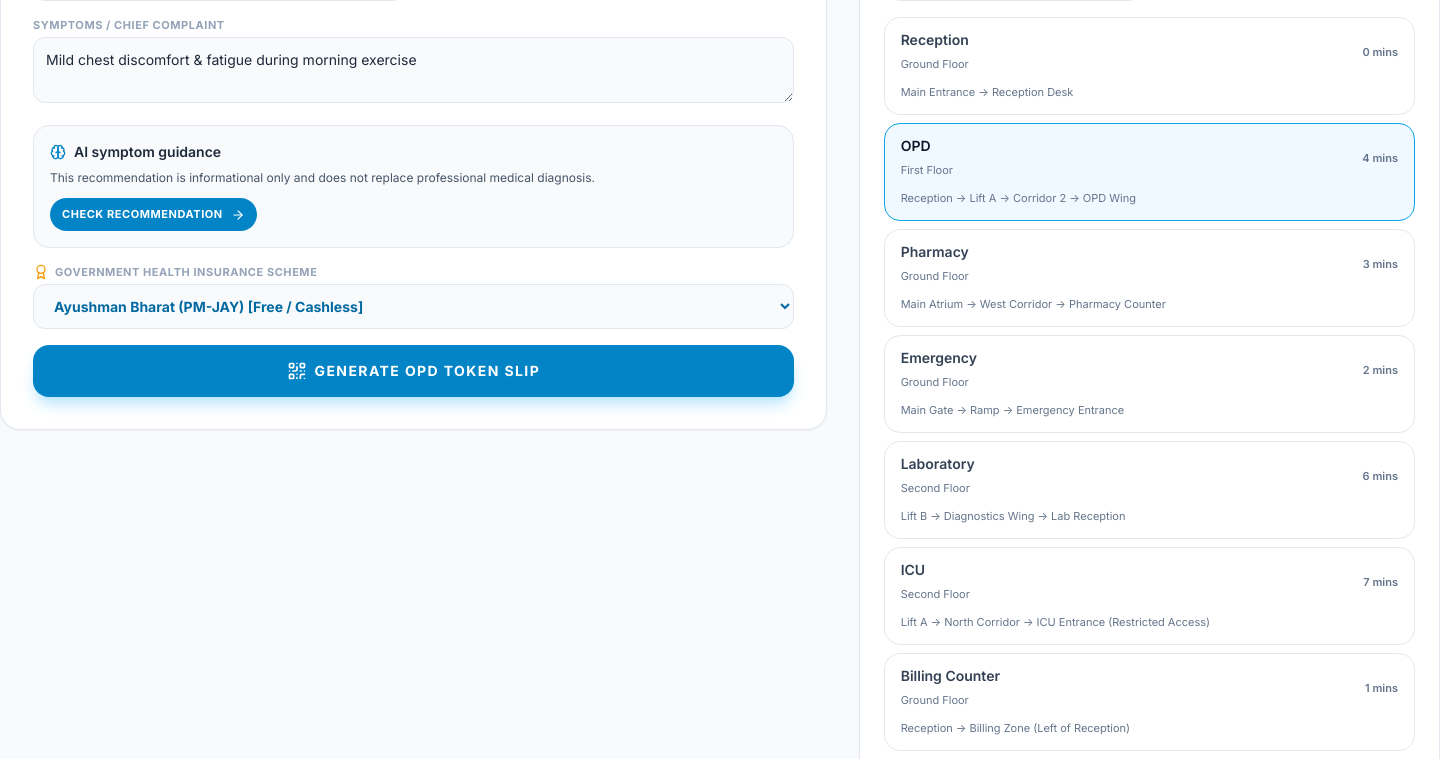
Test: OpdRegistration › loads doctors from the backend and creates an appointment when the slip is generated
The image size is (1440, 759).
(page scrolled)
Click the button "Generate OPD Token Slip".
click(413, 371)  # box [33,345,794,397]
(page scrolled)
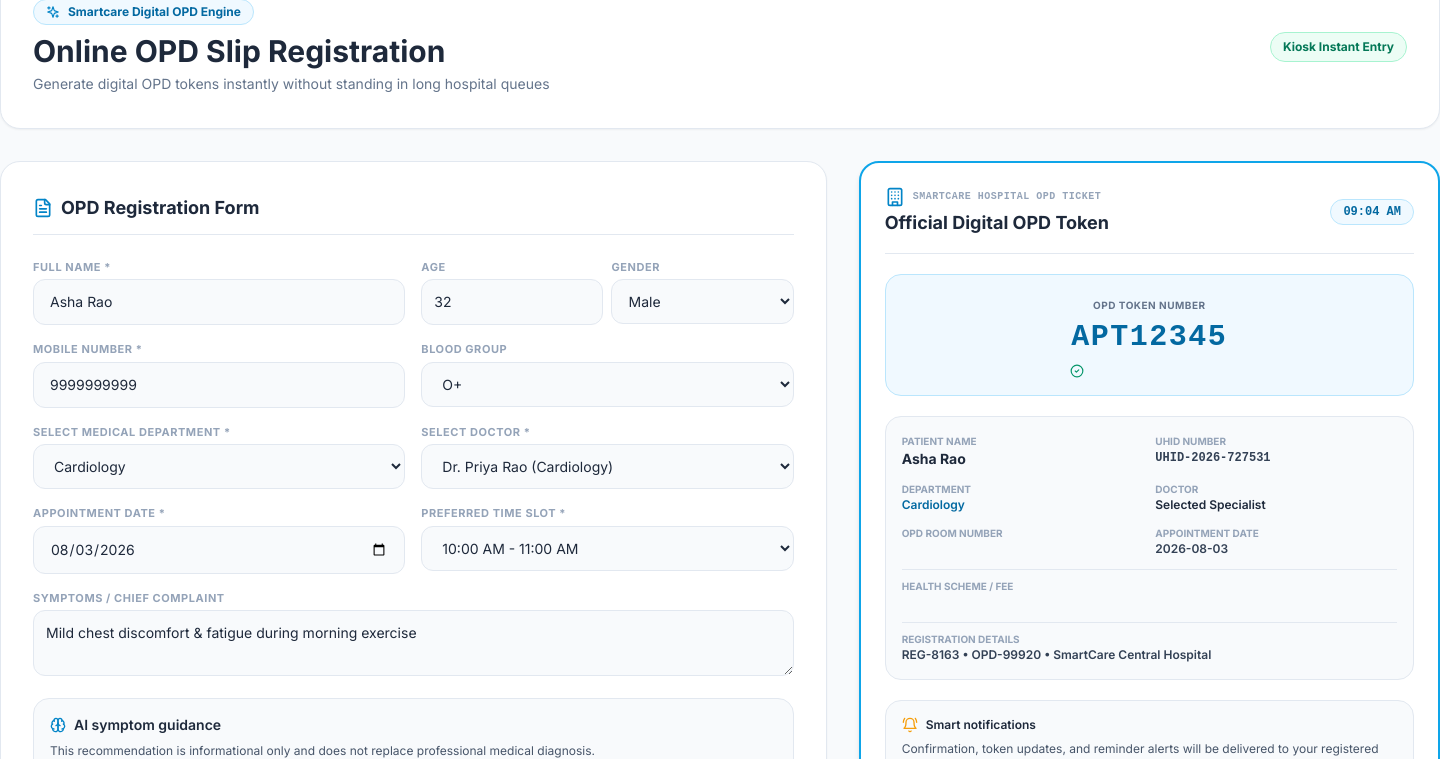
Now the heading "Official Digital OPD Token" is shown, box [885,209,1109,237]
